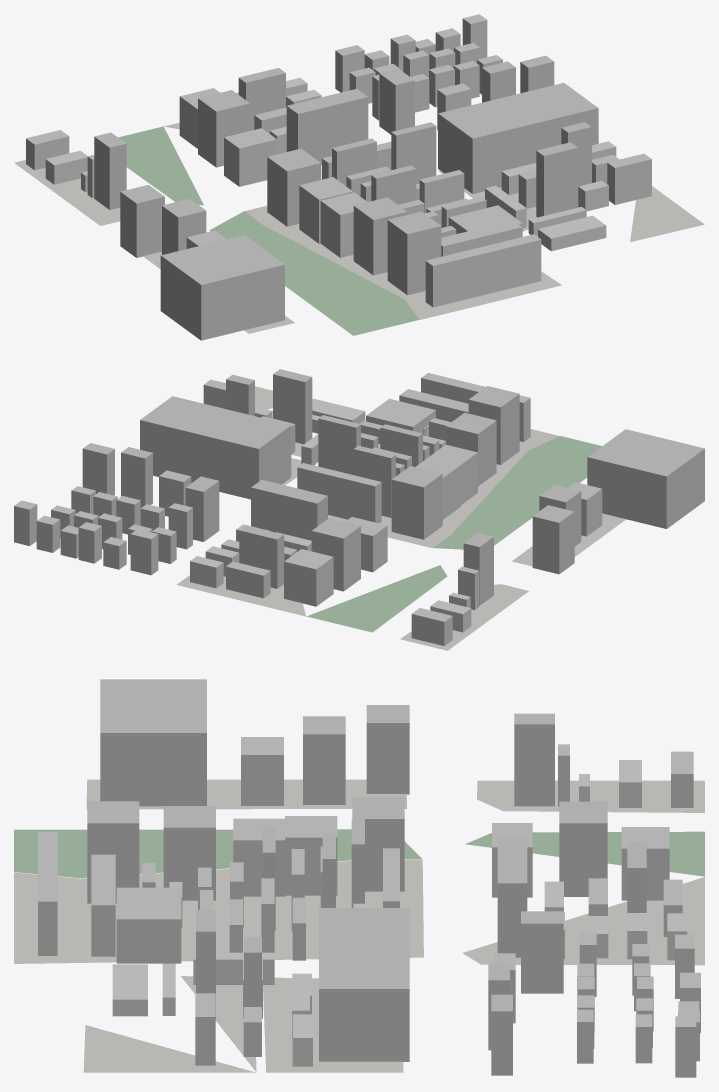
The model's file is 113_75_mid.glb.
3 renders of one model, top to bottom at view 1: azimuth 30°, elevation 25°; view 2: azimuth 150°, elevation 25°; view 3: azimuth 270°, elevation 25°, orthographic. The views are drawn at different scales.
Bounding box in the file's own units: 555 × 79.95 × 500.
